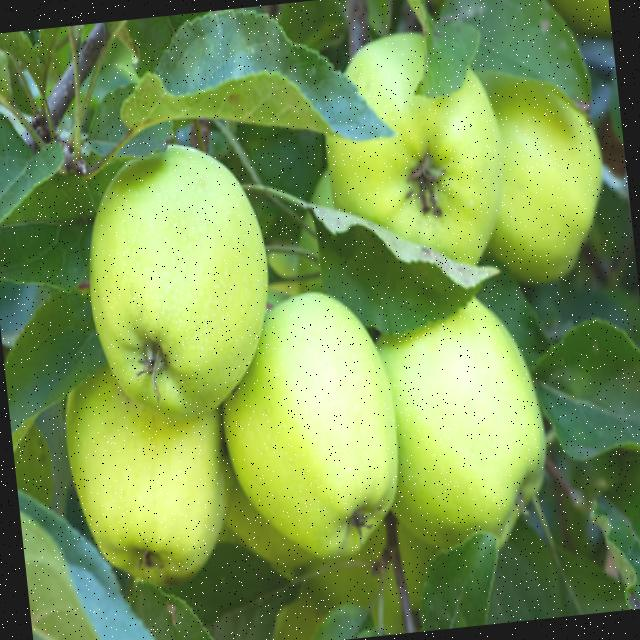Unripe: (72, 129, 282, 424), (209, 281, 408, 563), (312, 23, 508, 280)
